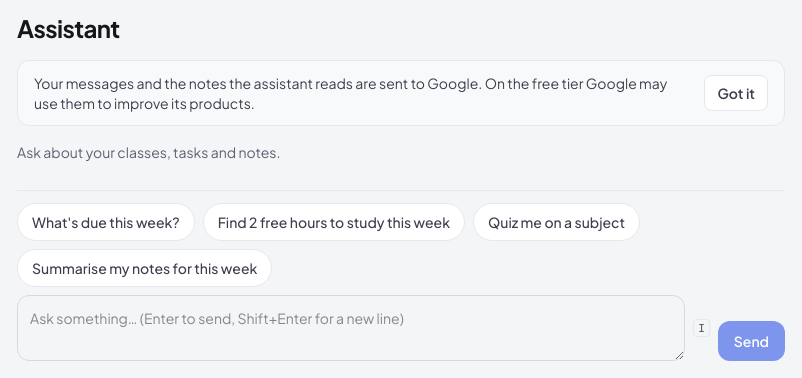
AssistantPage › streaming › falls back to POST /api/chat on a 500 before any data
In the text box named "Message the assistant": (351, 328) [17, 295, 685, 361], type "hi"
Then press Enter
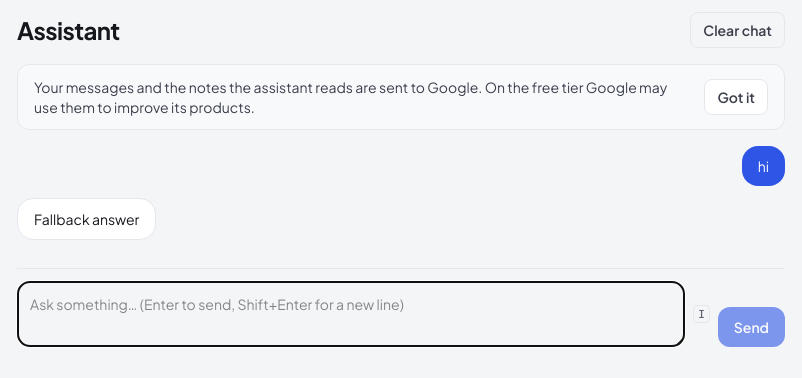
Result: the text "Fallback answer" is shown at [34, 209, 139, 229]
